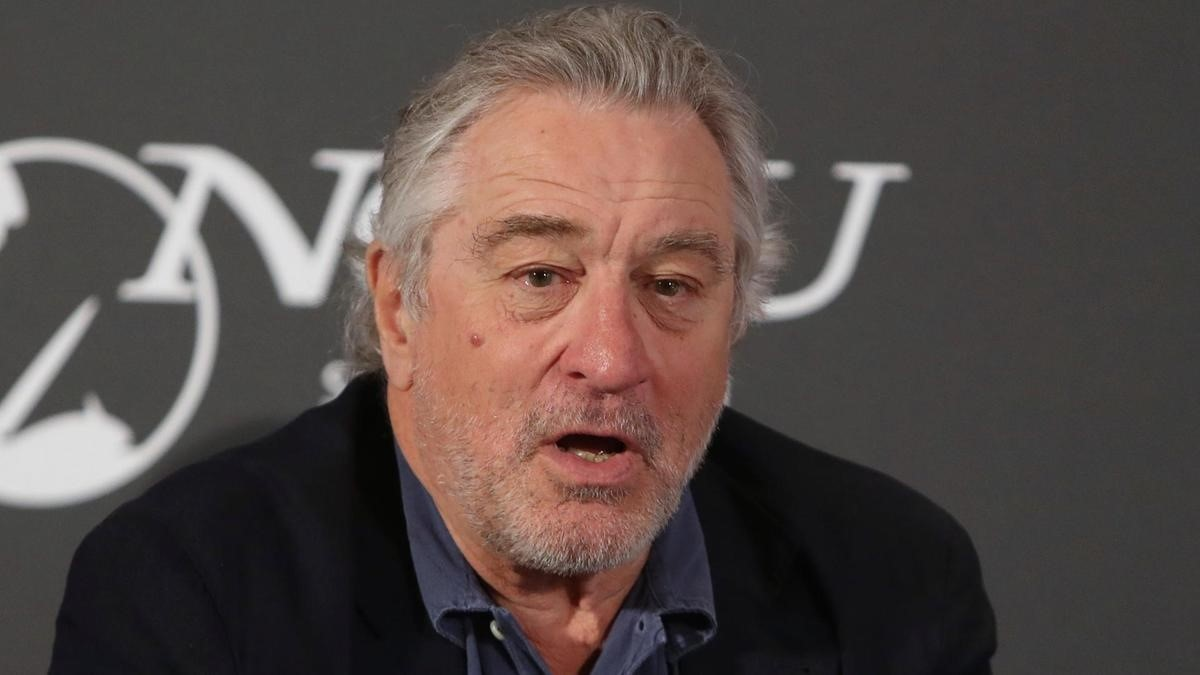face_no_mask: (365, 6, 764, 577)
